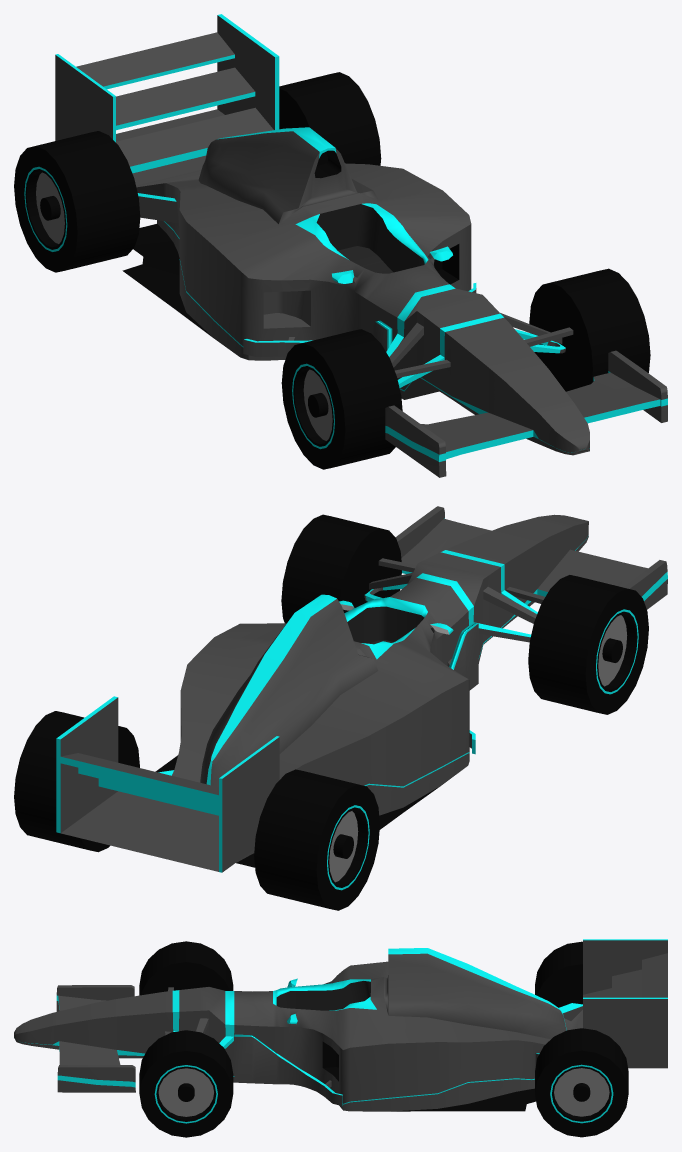
3 renders of one model, top to bottom at view 1: azimuth 30°, elevation 25°; view 2: azimuth 150°, elevation 25°; view 3: azimuth 270°, elevation 25°, orthographic. The views are drawn at different scales.
Visible parts, largest first — view 1: Chassis, Wheel3, Wheel2, Wheel1, Wheel4; view 2: Chassis, Wheel3, Wheel2, Wheel1, Wheel4; view 3: Chassis, Wheel4, Wheel1, Wheel2, Wheel3.
Part boxes in pixels (bbox=[...]): Chassis: bbox=[55, 14, 667, 477]; Wheel3: bbox=[14, 131, 140, 272]; Wheel2: bbox=[281, 329, 402, 469]; Wheel1: bbox=[529, 268, 650, 391]; Wheel4: bbox=[279, 72, 381, 165]; Chassis: bbox=[56, 506, 667, 872]; Wheel3: bbox=[254, 769, 379, 910]; Wheel2: bbox=[528, 575, 648, 714]; Wheel1: bbox=[281, 514, 401, 623]; Wheel4: bbox=[14, 711, 139, 852]; Chassis: bbox=[14, 939, 667, 1111]; Wheel4: bbox=[535, 1028, 628, 1137]; Wheel1: bbox=[139, 1030, 233, 1137]; Wheel2: bbox=[139, 941, 233, 995]; Wheel3: bbox=[535, 941, 582, 1007].
Size of the model in its own units: 6.64 by 3.73 by 16.75.
